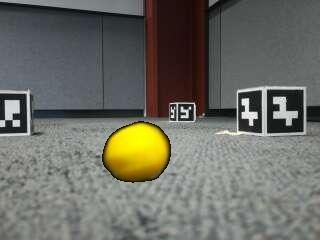lemon: (104, 124, 170, 182)
